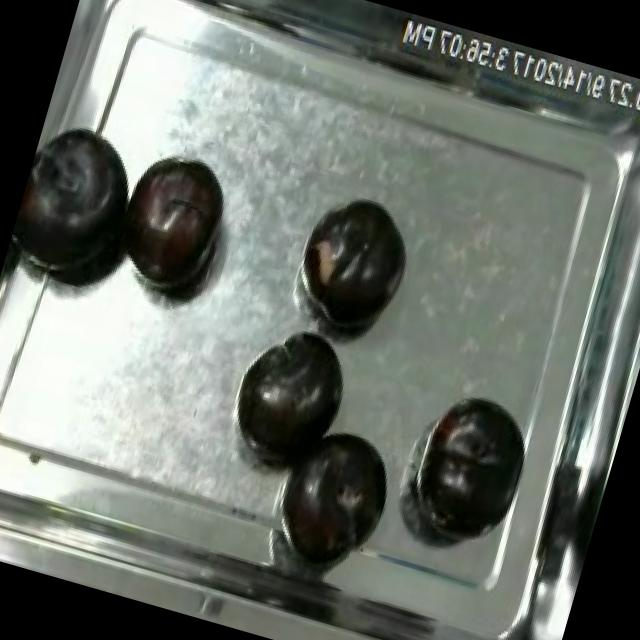Fruit: (1, 113, 158, 304), (396, 376, 546, 552), (100, 137, 246, 310), (222, 313, 364, 479), (287, 182, 426, 347)
